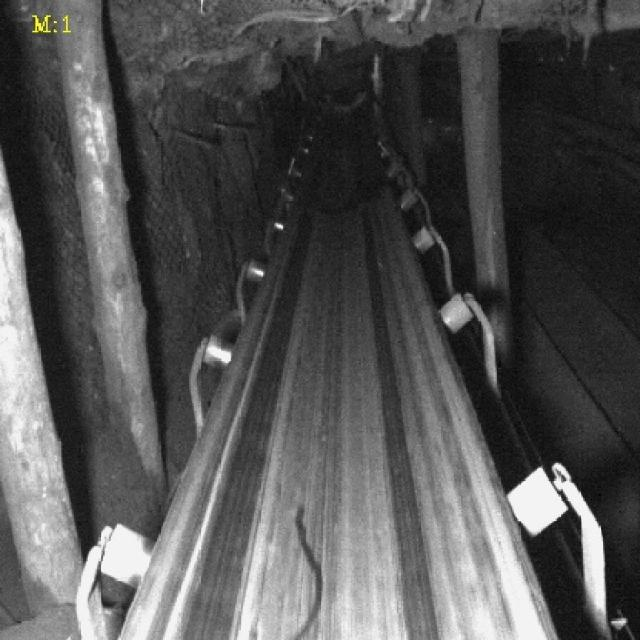bolt: (288, 497, 329, 640)
